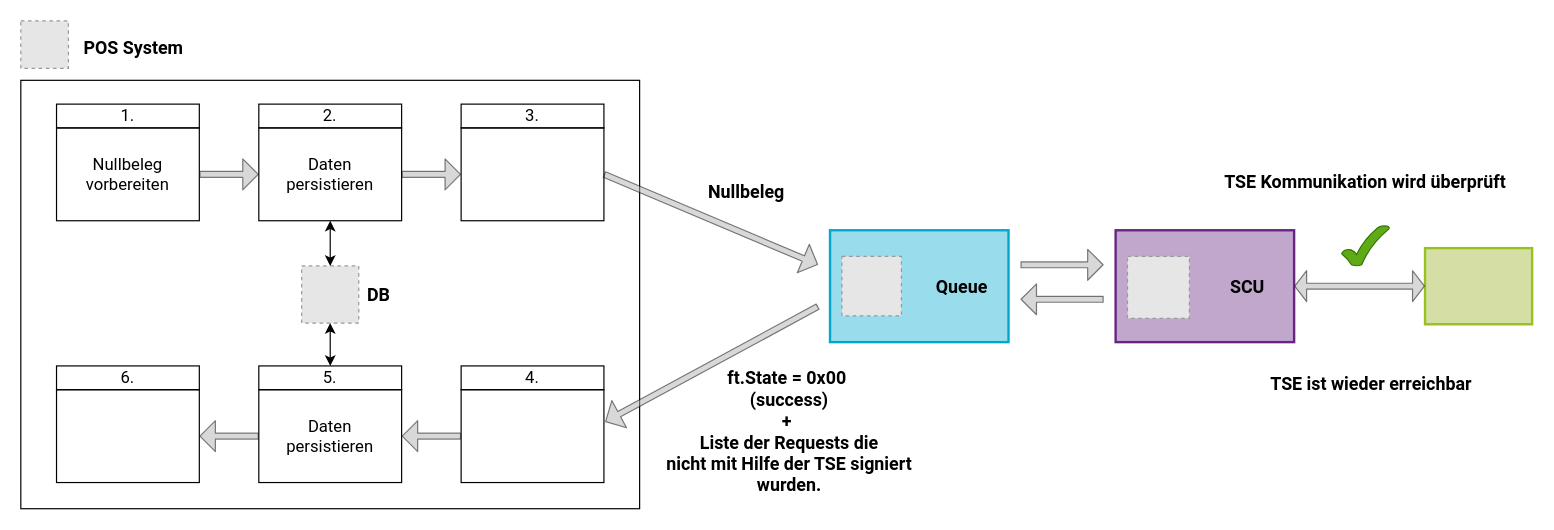
This 1554x530 diagram has some shape labels left out. Grey dashed boxes stand in for pictures. The shapes that lost their labels are listed below. From the top down, each one's box as (x1, y1, x2, y2) in pixels, then its label:
(460, 127, 604, 221): sign - Request erstellen und senden
(1423, 246, 1533, 325): TSE
(55, 389, 199, 483): Beleg erstellen und drucken.
(460, 389, 604, 483): Response prozessieren
